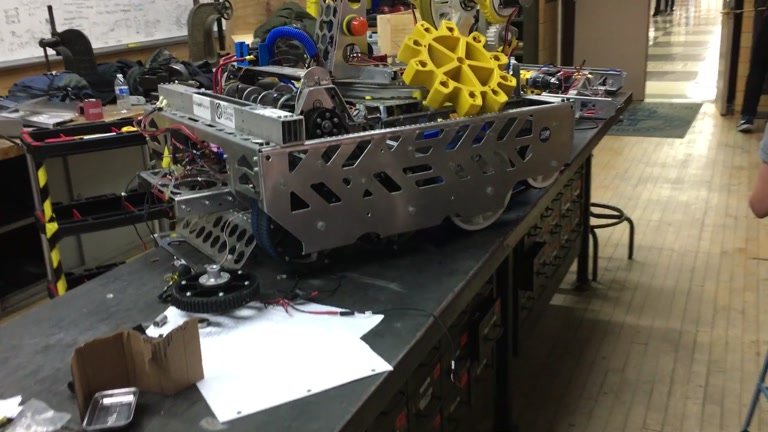gear: (399, 17, 517, 116)
